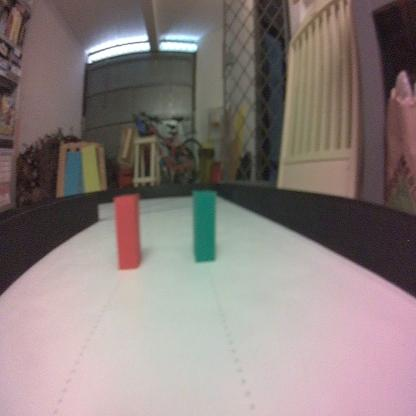green: (191, 187, 216, 264)
red: (113, 193, 142, 271)
